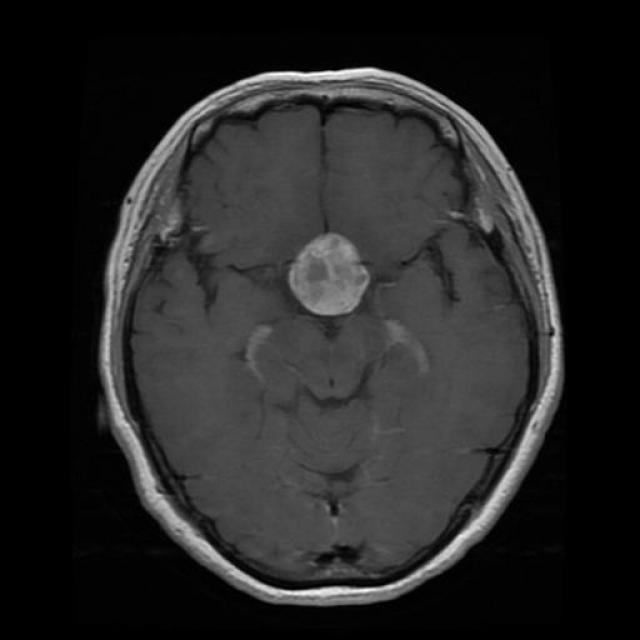Brain-Tumor: (283, 219, 377, 326)
